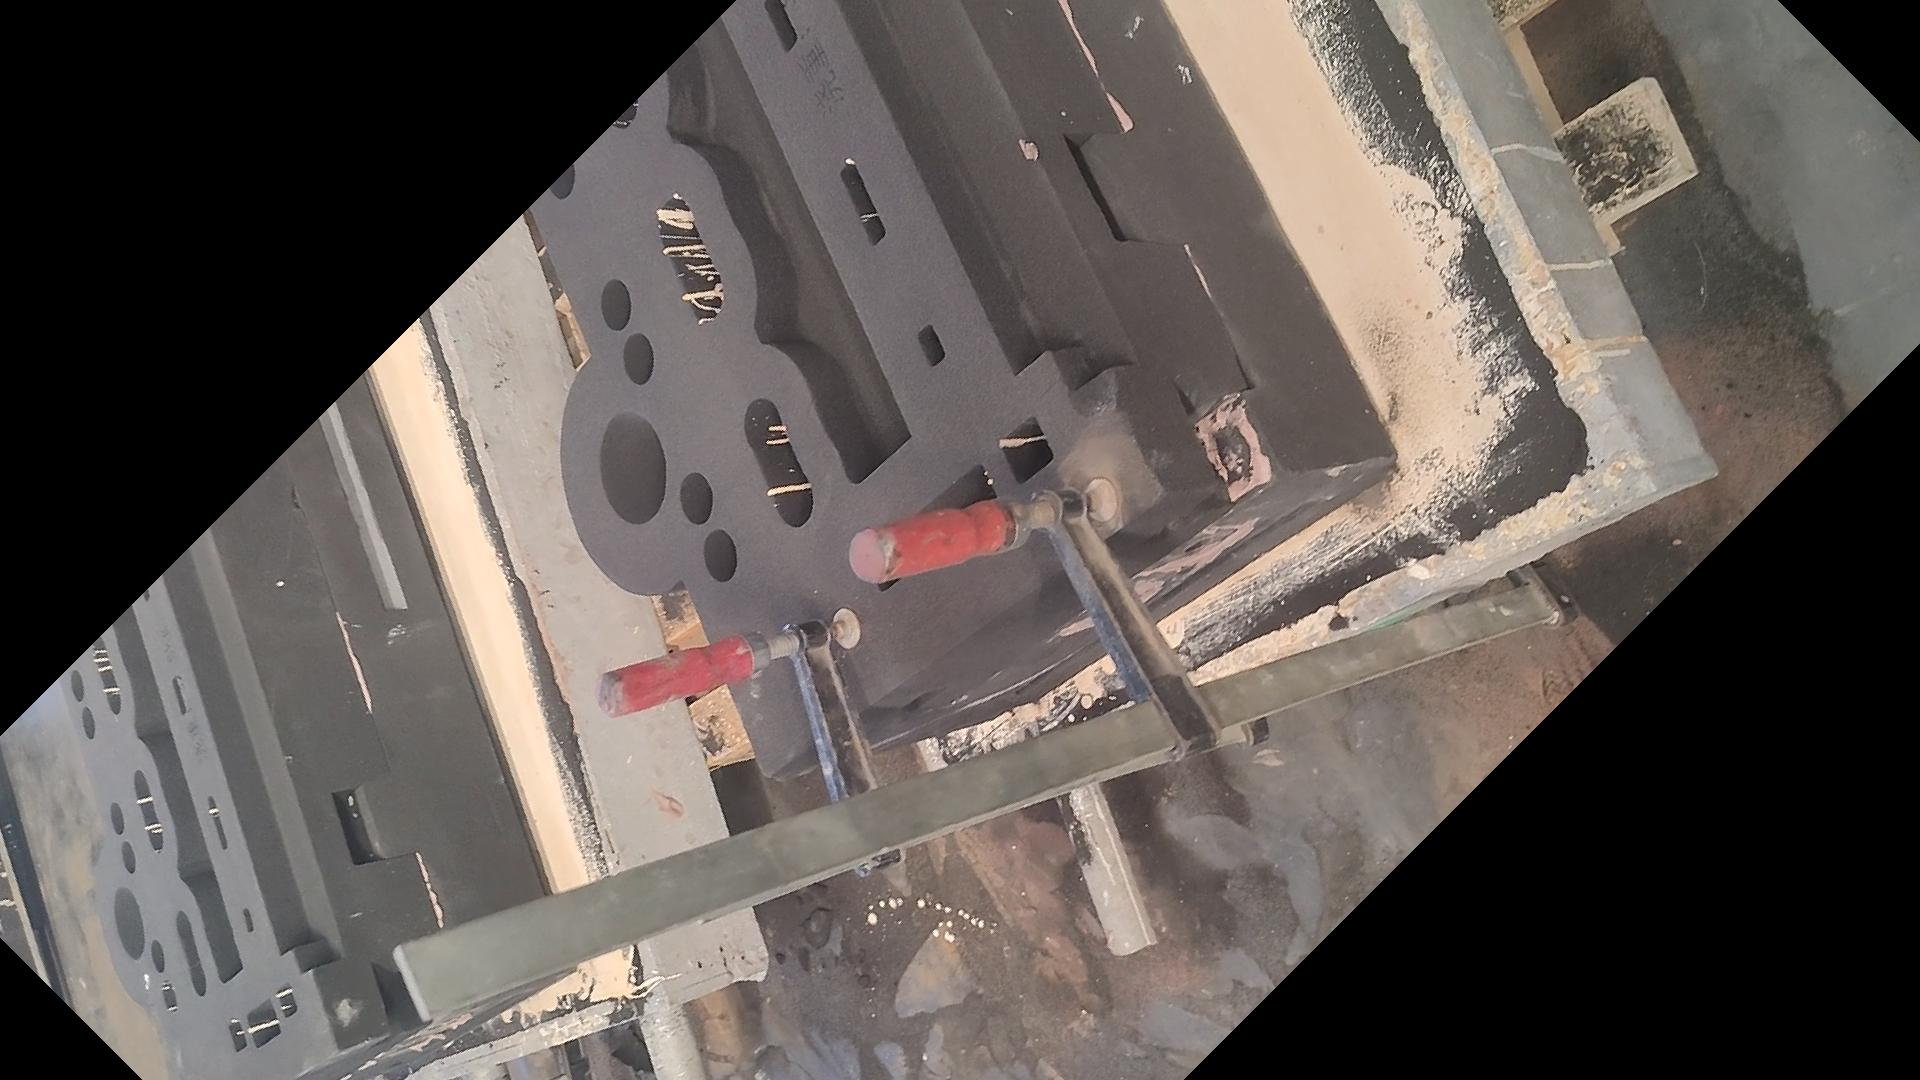pouring hole: (600, 410, 666, 524), (113, 887, 144, 959)
